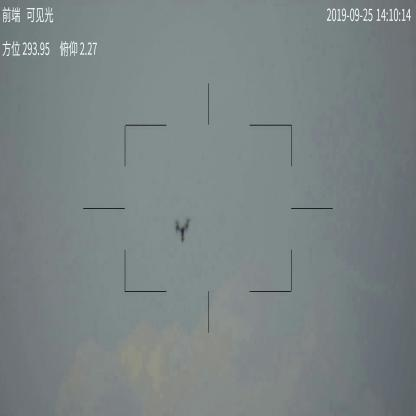uav: (174, 218, 190, 246)
